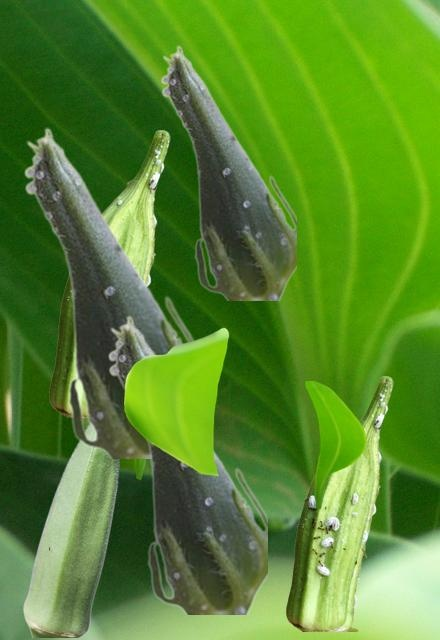okra: (23, 127, 195, 457), (107, 315, 266, 613), (49, 130, 169, 416), (160, 45, 295, 299), (286, 376, 392, 630), (23, 424, 119, 636)
